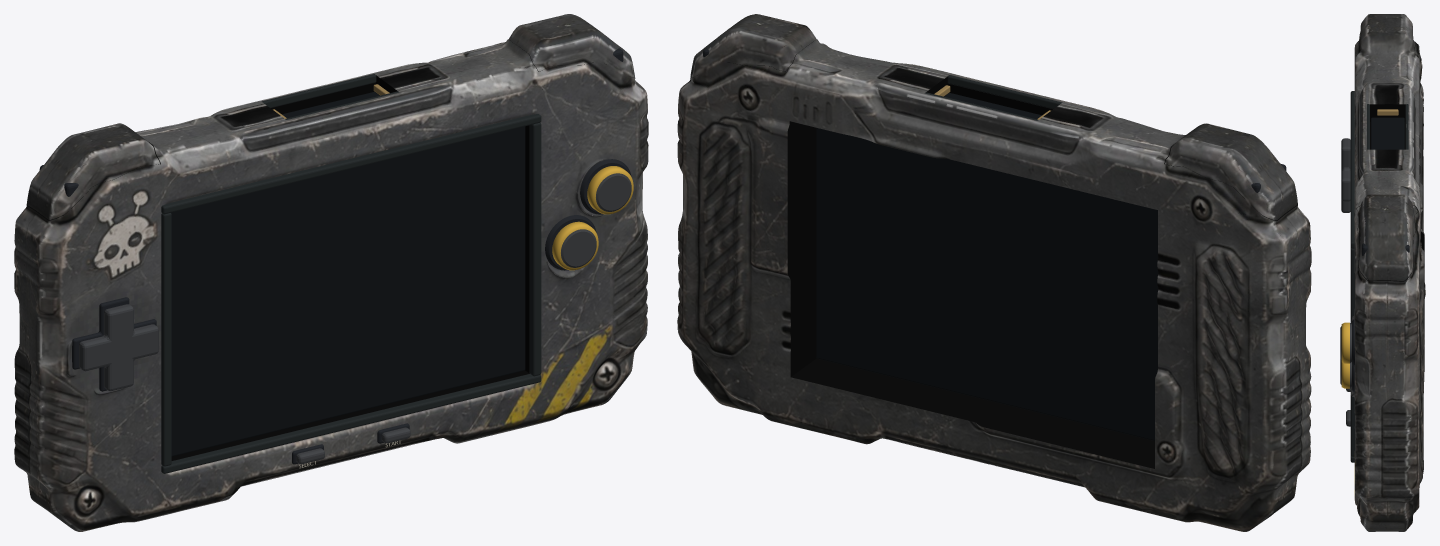
File: zang-field-player.glb
3 renders of one model, left to right at view 1: azimuth 30°, elevation 25°; view 2: azimuth 150°, elevation 25°; view 3: azimuth 270°, elevation 25°, orthographic. The views are drawn at different scales.
Parts seen in each view (by area): view 1: ZANG Field Player · scarred charcoal housing, Recessed screen backing, FieldL, FieldR, Display bezel horizontal, Display bezel horizontal.001, FieldDPad, Display bezel upright.001, Display bezel upright, FieldB, FieldA, Slot guide.001 (+1 smaller); view 2: ZANG Field Player · scarred charcoal housing, Recessed screen backing, FieldL, FieldR, Slot guide; view 3: ZANG Field Player · scarred charcoal housing, FieldR, FieldL, Slot bottom, Display bezel horizontal.001, FieldDPad, Display bezel upright.001, FieldA, FieldB, Slot guide.001, Slot contact shoulder, Fixed action socket (+1 smaller).
Boxes of the visible parts, box(x1,y1,x2,y2) form: ZANG Field Player · scarred charcoal housing: box(14, 39, 648, 531); Recessed screen backing: box(171, 126, 525, 456); FieldL: box(27, 123, 160, 219); FieldR: box(503, 14, 634, 77); Display bezel horizontal: box(161, 374, 541, 473); Display bezel horizontal.001: box(161, 114, 541, 214); FieldDPad: box(79, 304, 158, 391); Display bezel upright.001: box(529, 122, 541, 376); Display bezel upright: box(161, 213, 171, 466); FieldB: box(552, 221, 598, 270); FieldA: box(587, 166, 633, 214); Slot guide.001: box(261, 74, 376, 108); ZANG Field Player · scarred charcoal housing: box(677, 39, 1311, 531); Recessed screen backing: box(816, 128, 1158, 440); FieldL: box(1165, 123, 1297, 220); FieldR: box(690, 14, 820, 77); Slot guide: box(947, 75, 1062, 109); ZANG Field Player · scarred charcoal housing: box(1350, 37, 1425, 531); FieldR: box(1356, 194, 1416, 280); FieldL: box(1357, 14, 1416, 55); Slot bottom: box(1371, 117, 1404, 149); Display bezel horizontal.001: box(1350, 91, 1354, 248); FieldDPad: box(1341, 138, 1350, 212); Display bezel upright.001: box(1350, 247, 1354, 456); FieldA: box(1340, 322, 1351, 363); FieldB: box(1340, 359, 1351, 388); Slot guide.001: box(1405, 104, 1408, 149); Slot contact shoulder: box(1377, 109, 1398, 115); Fixed action socket: box(1352, 319, 1354, 367).
Size of the model in its own units: 2.44 by 1.45 by 0.3578.
Materials: 8 (1 with a texture image).
